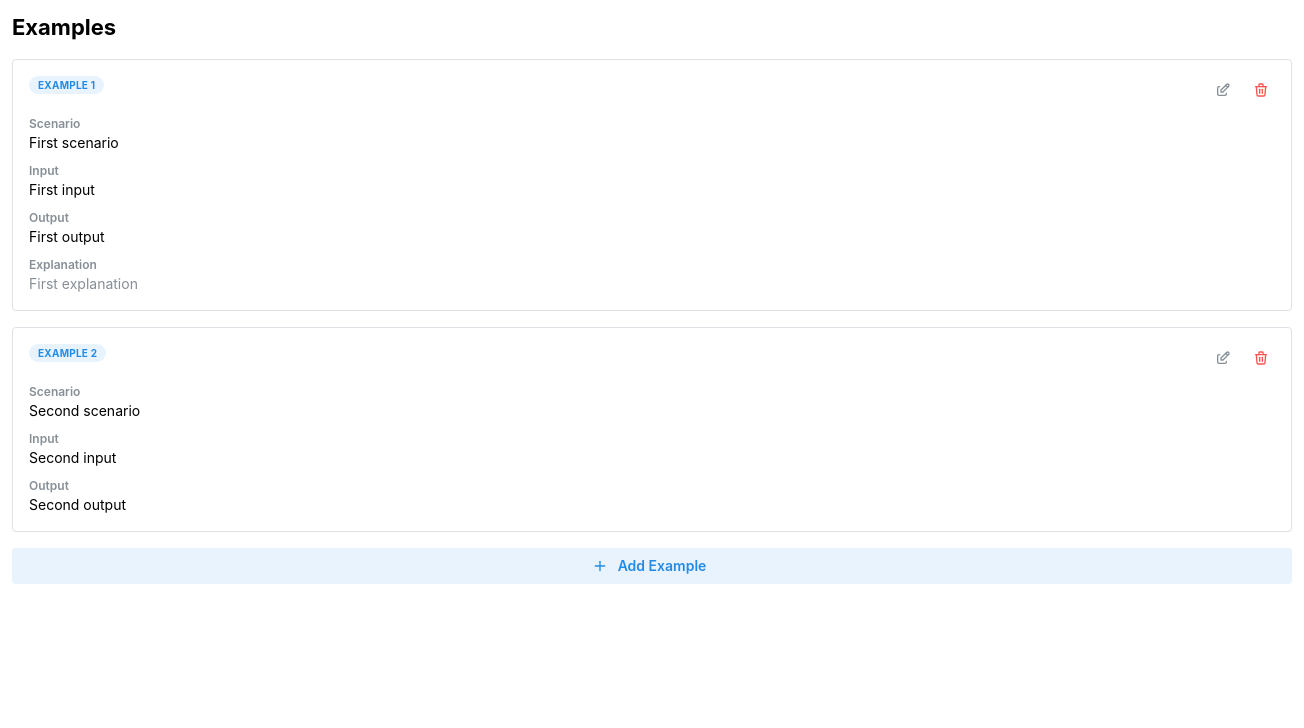
Test: WorkflowExamplesManager › should show add form when add button is clicked
Click the button "Add Example" at (652, 566), box 12,548 -> 1292,584
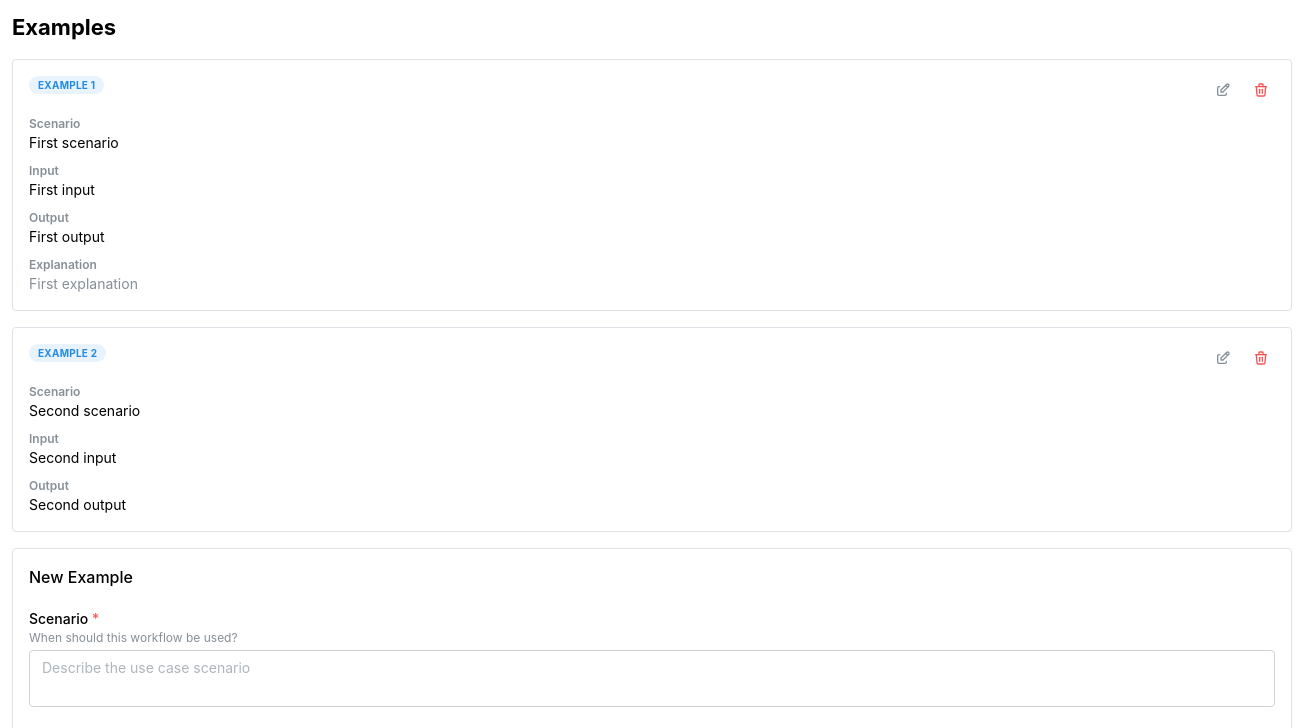
Result: the text "New Example" is shown at 29,568 -> 133,588
